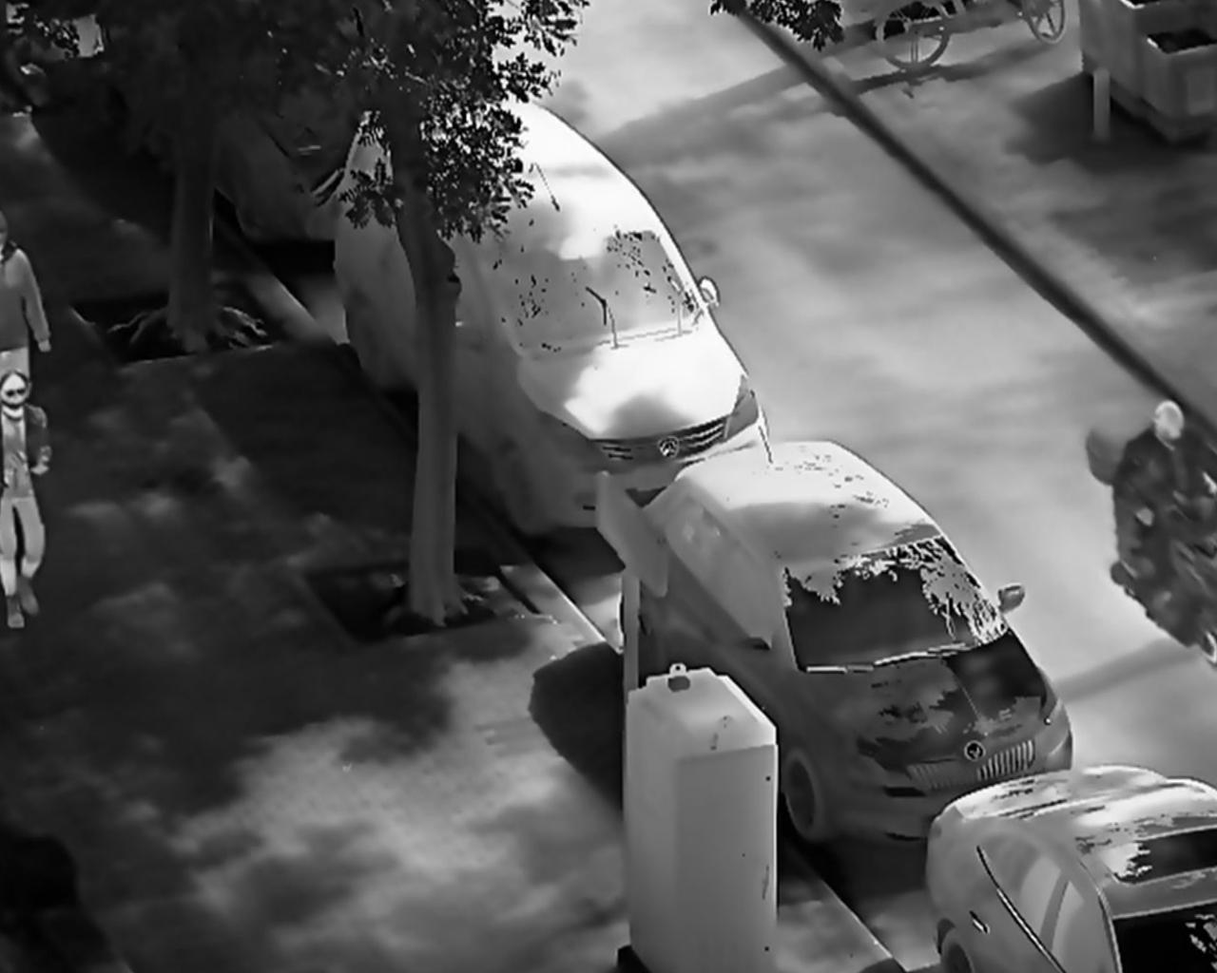person: (1116, 397, 1217, 588)
